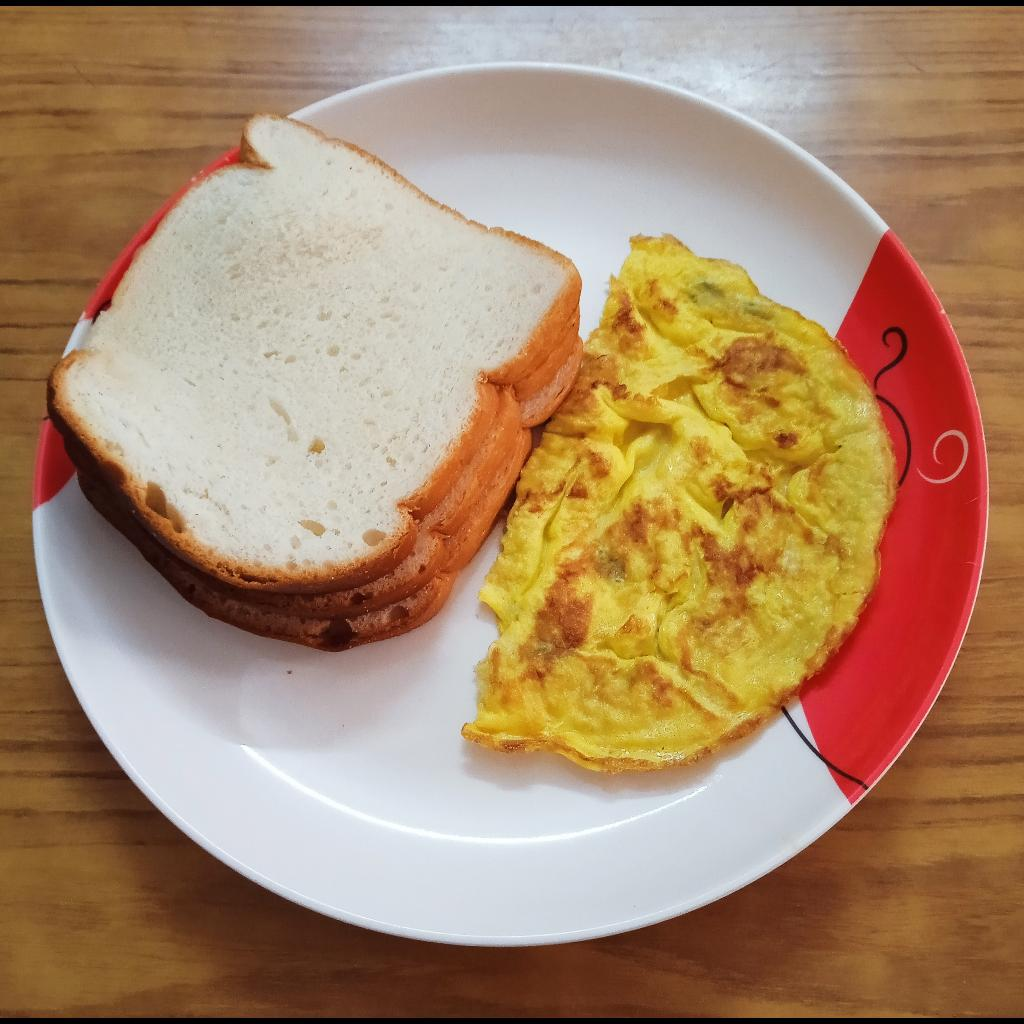bread: (45, 116, 585, 658)
egg: (465, 234, 897, 777)
